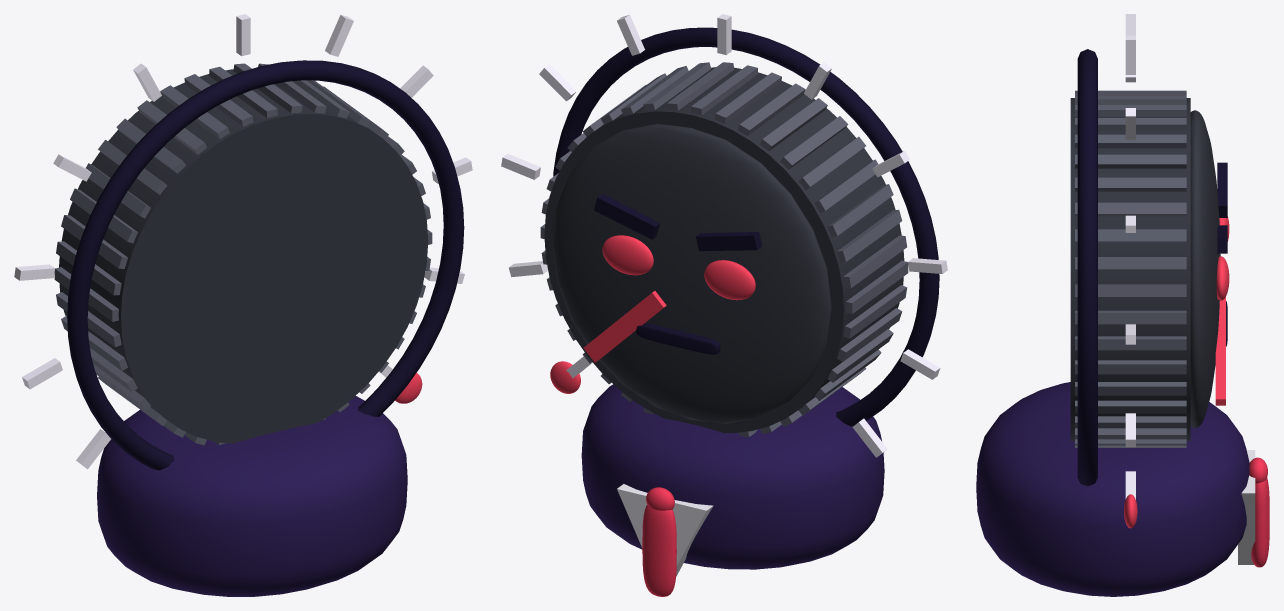
The model's file is Boss1_VolumeZero.obj.
3 views of the same model, side by side, from view 1: azimuth 30°, elevation 25°; view 2: azimuth 150°, elevation 25°; view 3: azimuth 270°, elevation 25° (orthographic). The views are drawn at different scales.
Visible parts, largest first — view 1: Knob, Collar, ScalePlate, Ridges, Ticks; view 2: Knob, Collar, Ridges, ScalePlate, Ticks, Face_Dark, Tie, Eyes, Shirt, Pointer, ZeroMark; view 3: Collar, Knob, Ridges, ScalePlate, Ticks, Tie, Shirt, Pointer, Face_Dark, Eyes.
Boxes of the visible parts, box(x1,y1,x2,y2) form: Knob: box(59, 69, 428, 443); Collar: box(97, 395, 407, 596); ScalePlate: box(67, 60, 464, 470); Ridges: box(54, 63, 432, 445); Ticks: box(14, 14, 472, 469); Knob: box(544, 67, 904, 433); Collar: box(581, 384, 884, 569); Ridges: box(540, 62, 908, 437); ScalePlate: box(553, 27, 939, 426); Ticks: box(501, 14, 947, 457); Face_Dark: box(594, 194, 762, 354); Tie: box(642, 487, 676, 596); Eyes: box(602, 235, 755, 300); Shirt: box(617, 484, 713, 576); Pointer: box(583, 291, 666, 362); ZeroMark: box(550, 361, 580, 393); Collar: box(976, 382, 1249, 596); Knob: box(1070, 98, 1220, 440); Ridges: box(1075, 90, 1186, 447); ScalePlate: box(1077, 49, 1097, 486); Ticks: box(1125, 14, 1135, 499); Tie: box(1249, 457, 1269, 567); Shirt: box(1238, 450, 1255, 564); Pointer: box(1215, 297, 1225, 405); Face_Dark: box(1217, 162, 1227, 346); Eyes: box(1216, 216, 1229, 300).
Size of the model in its own units: 0.5896 by 0.6775 by 0.342.
